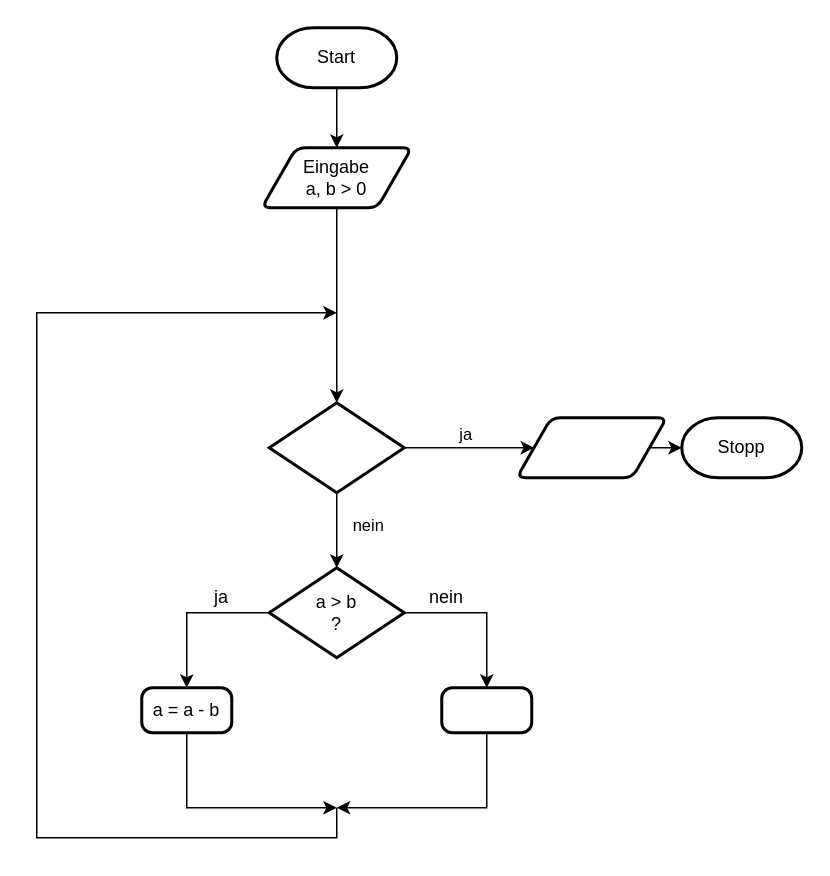
The diagram is 830 pixels wide and 876 high, and some of its shapes have lost their labels. Each missing label, with the centre of its shape:
a = b ?: the point at 336,447
Ausgabe a: the point at 591,447
b = b - a: the point at 486,710
